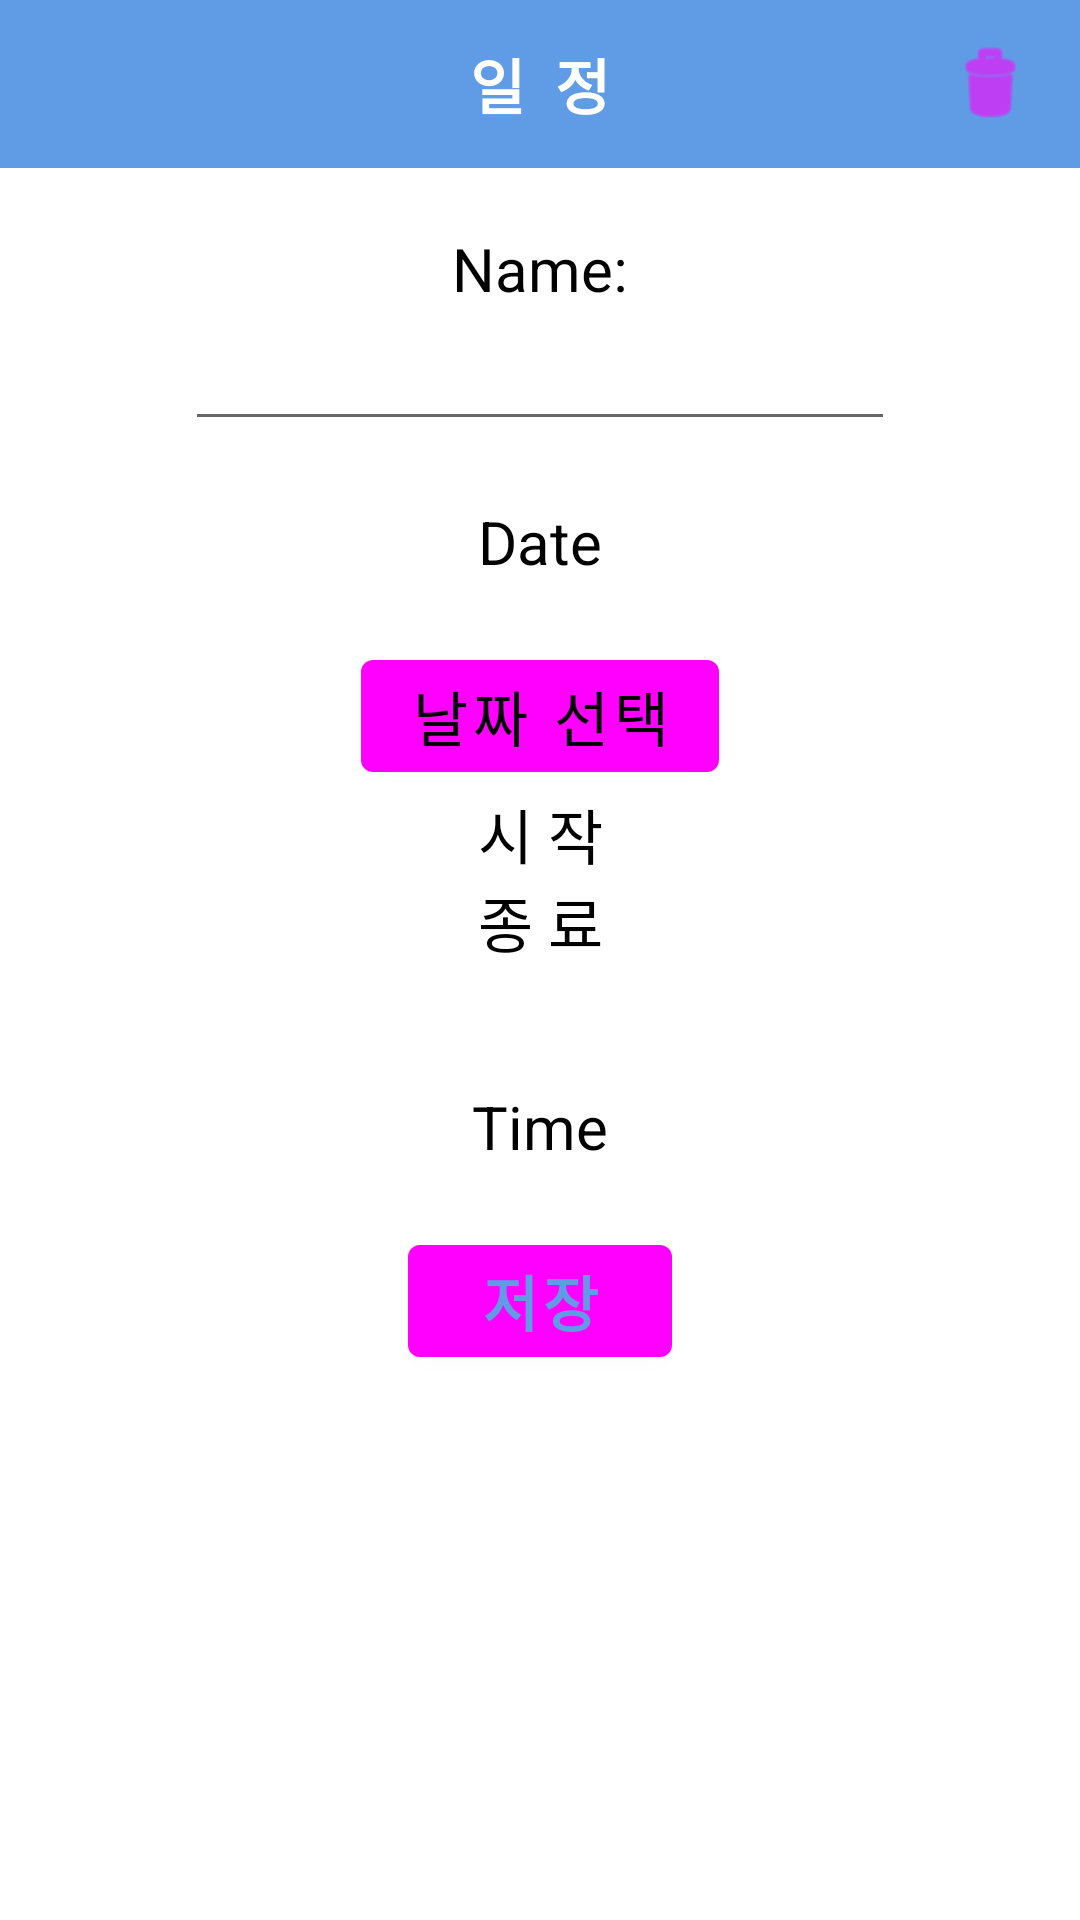

Icons on this 1080x1920 Android screen, each with the point to tap as point (x, y):
delete: point (990, 83)
